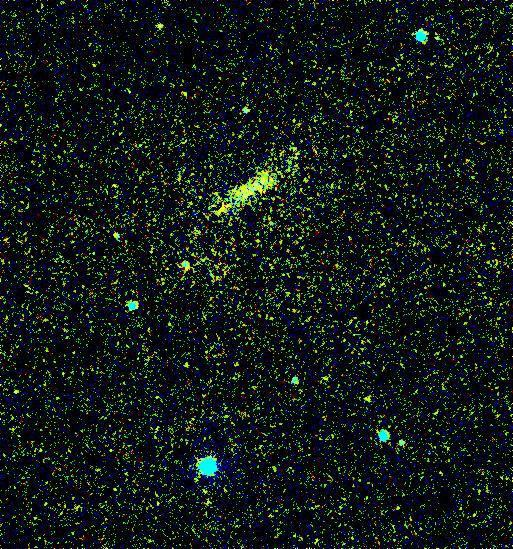star: (144, 10, 174, 40)
